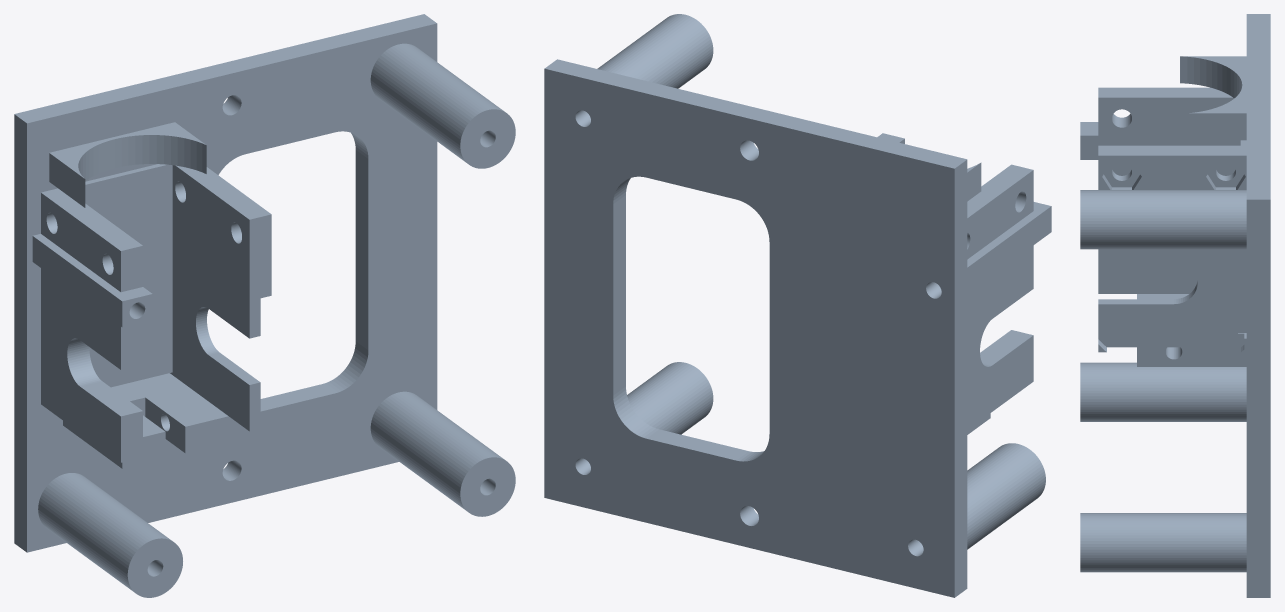
Rendered from soporte_tt_mecanum_base.glb.
3 views of the same model, side by side, from view 1: azimuth 30°, elevation 25°; view 2: azimuth 150°, elevation 25°; view 3: azimuth 270°, elevation 25° (orthographic). The views are drawn at different scales.
Parts seen in each view (by area): view 1: geometry_0; view 2: geometry_0; view 3: geometry_0.
Boxes of the visible parts, x1,y1,x2,y2 form: geometry_0: [14, 14, 515, 597]; geometry_0: [544, 14, 1051, 597]; geometry_0: [1080, 14, 1270, 597].
Size of the model in its own units: 74 by 74 by 32.
